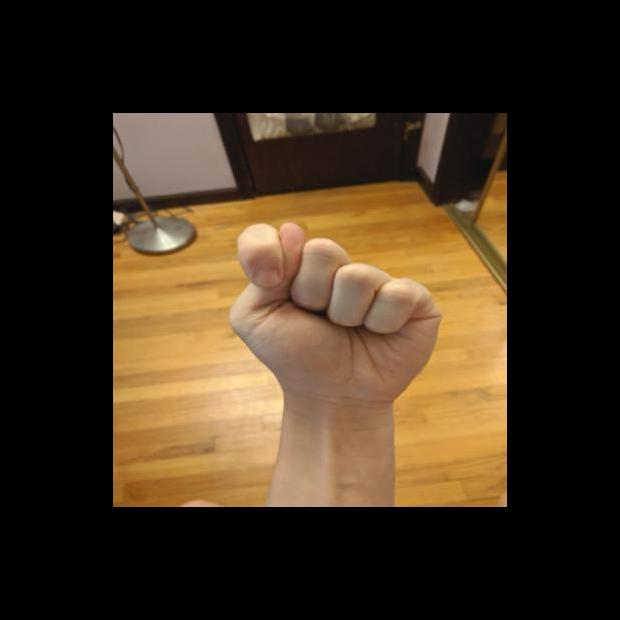S: (216, 216, 449, 413)
